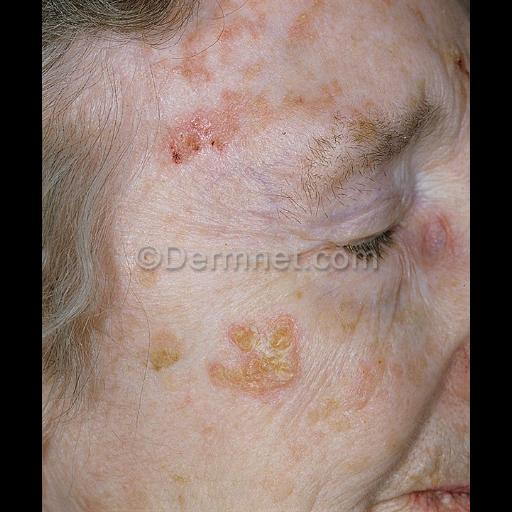Skin_Lesion: (226, 310, 302, 404), (158, 106, 214, 170), (415, 200, 453, 270), (220, 1, 260, 45), (152, 321, 182, 375), (228, 315, 260, 355), (452, 336, 470, 390), (244, 43, 266, 85), (454, 42, 470, 86)
